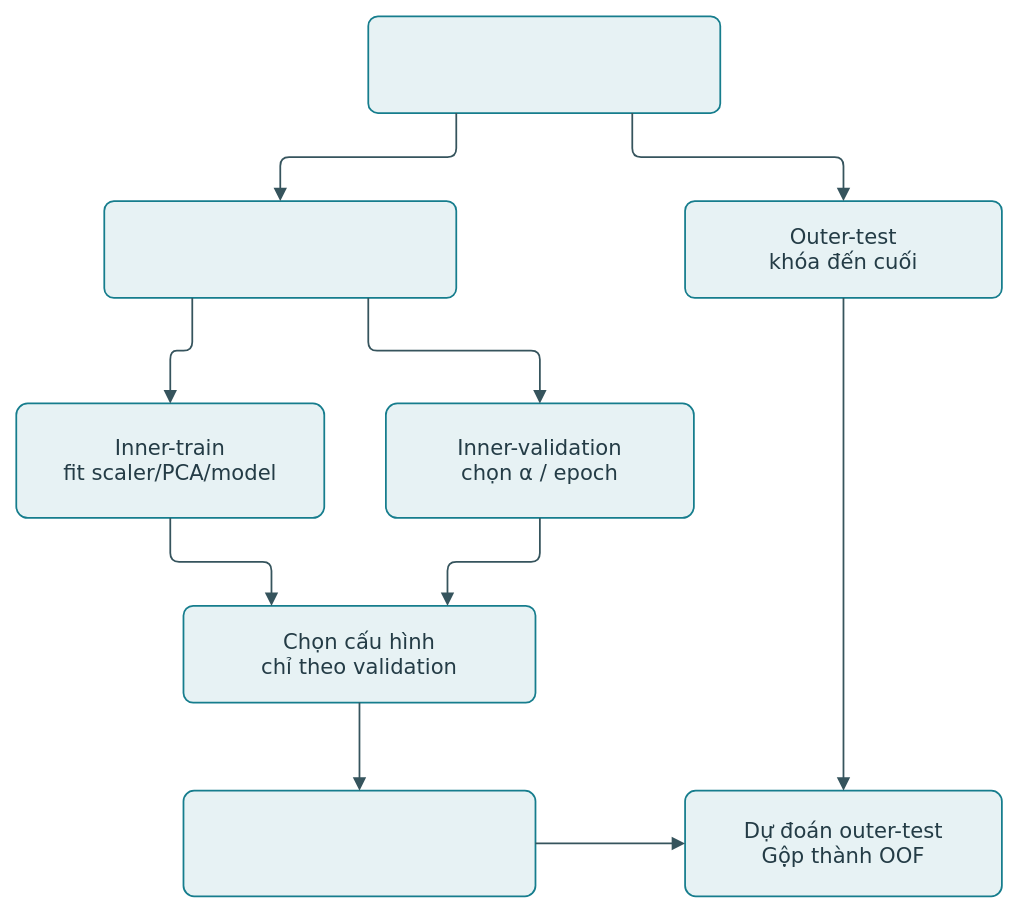
The diagram is 1017 pixels wide and 912 high, and some of its shapes have lost their labels. The centre of each missing label's shape, as x and y in pixels:
Khởi tạo / refit trên outer-train hợp lệ: [359,843]
Nhóm protein (không tách từng ô): [544,64]
Outer-train được phép học: [280,249]
